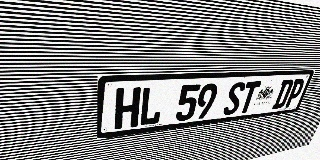5: (175, 84, 201, 122)
9: (194, 83, 219, 119)
D: (271, 79, 295, 109)
H: (114, 87, 141, 129)
L: (138, 86, 165, 126)
P: (283, 79, 306, 108)
S: (222, 82, 247, 116)
T: (237, 81, 261, 114)
